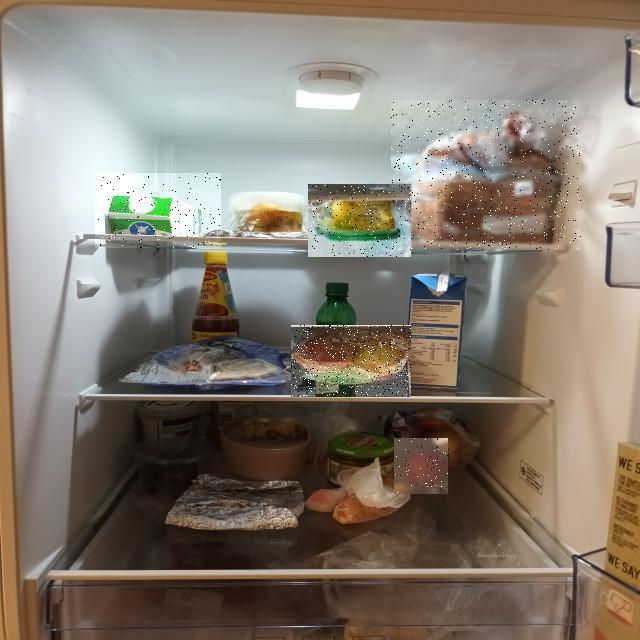apple: (86, 198, 497, 596)
milk: (0, 124, 206, 372)
tomato: (170, 247, 618, 640)
